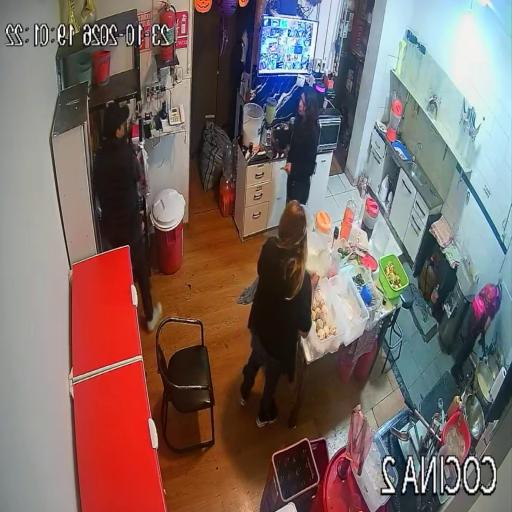Envase Llajua: (448, 395, 465, 417)
Jarra1: (362, 197, 379, 241)
Jarra2: (315, 210, 333, 244)
Microondas: (318, 109, 341, 152)
Persona1: (94, 104, 161, 329)
Persona2: (451, 284, 502, 384)
Persona3: (240, 200, 312, 427)
Persona6: (285, 90, 319, 203)
Taper2: (358, 272, 382, 312)
Taper3: (329, 272, 369, 345)
Taper4: (299, 276, 350, 360)
